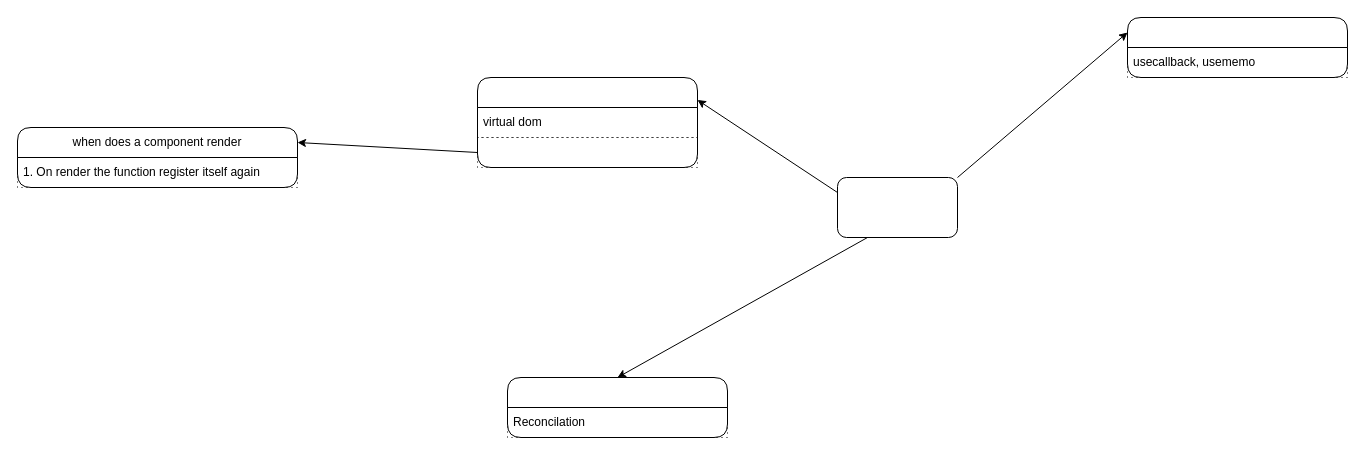
Image size: 1365x455. Some labels were removed from this diagram. The centre of each missing label's shape, as x and y in pixels:
"React JS Architecture" belongs at (x=897, y=207).
"Rendering component" belongs at (x=587, y=152).
